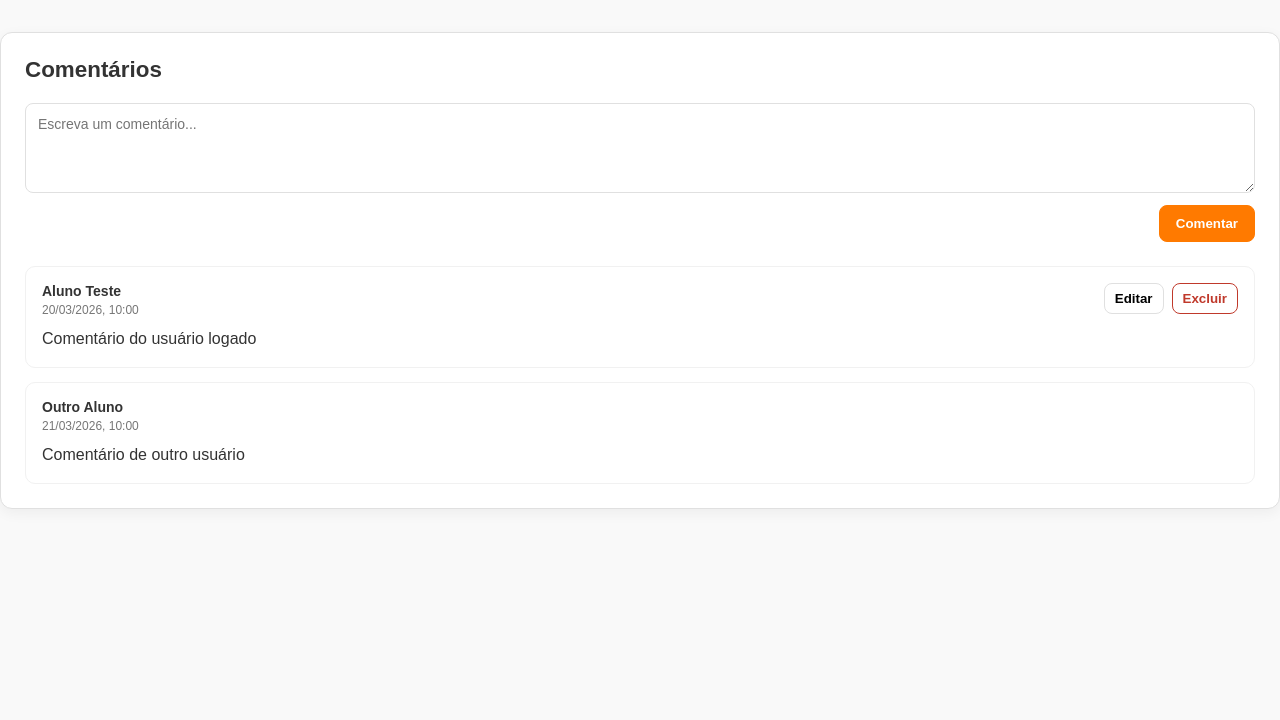
Scenario: CommentsSection › edita um comentário próprio
The width and height of the screenshot is (1280, 720).
Expected: the text "Comentário do usuário logado" is shown, [42,330,256,347]
Step 1. Click the button "Editar" → (1134,298), box [1104,283,1164,314]
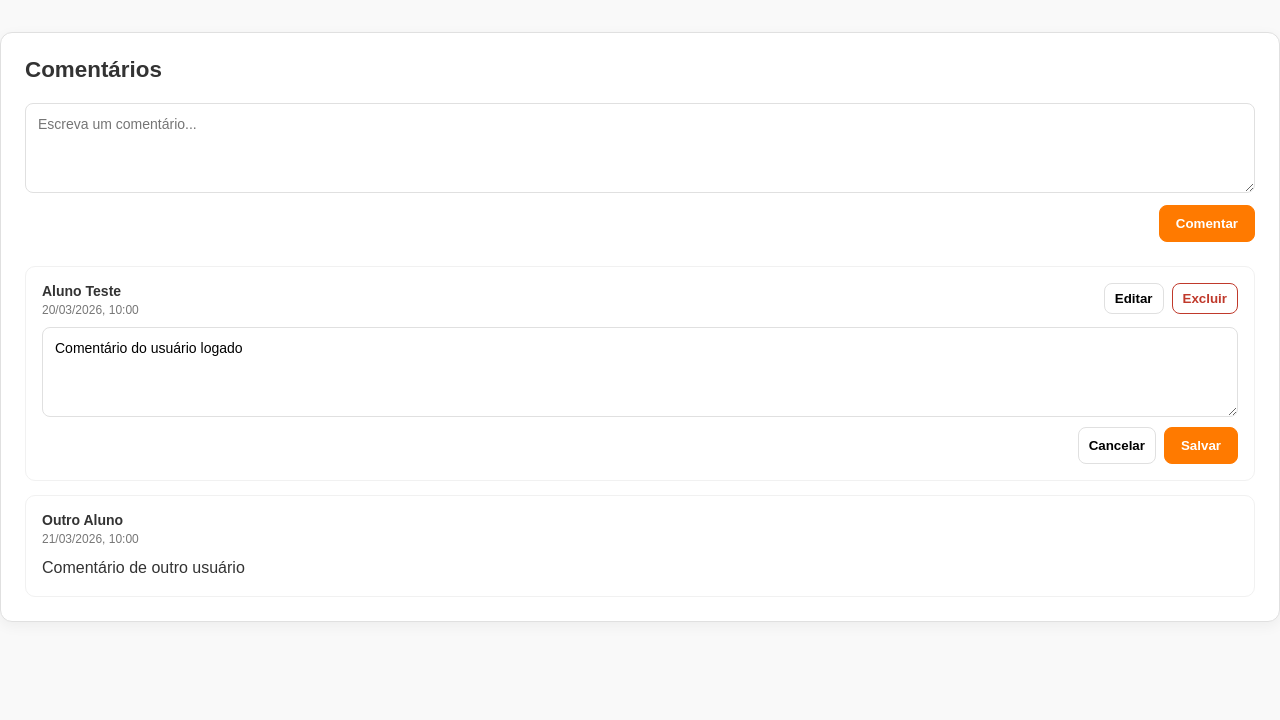
Step 2. Replace the text in the 2nd text box with "Comentário atualizado" → (640,372), box [42,327,1238,417]
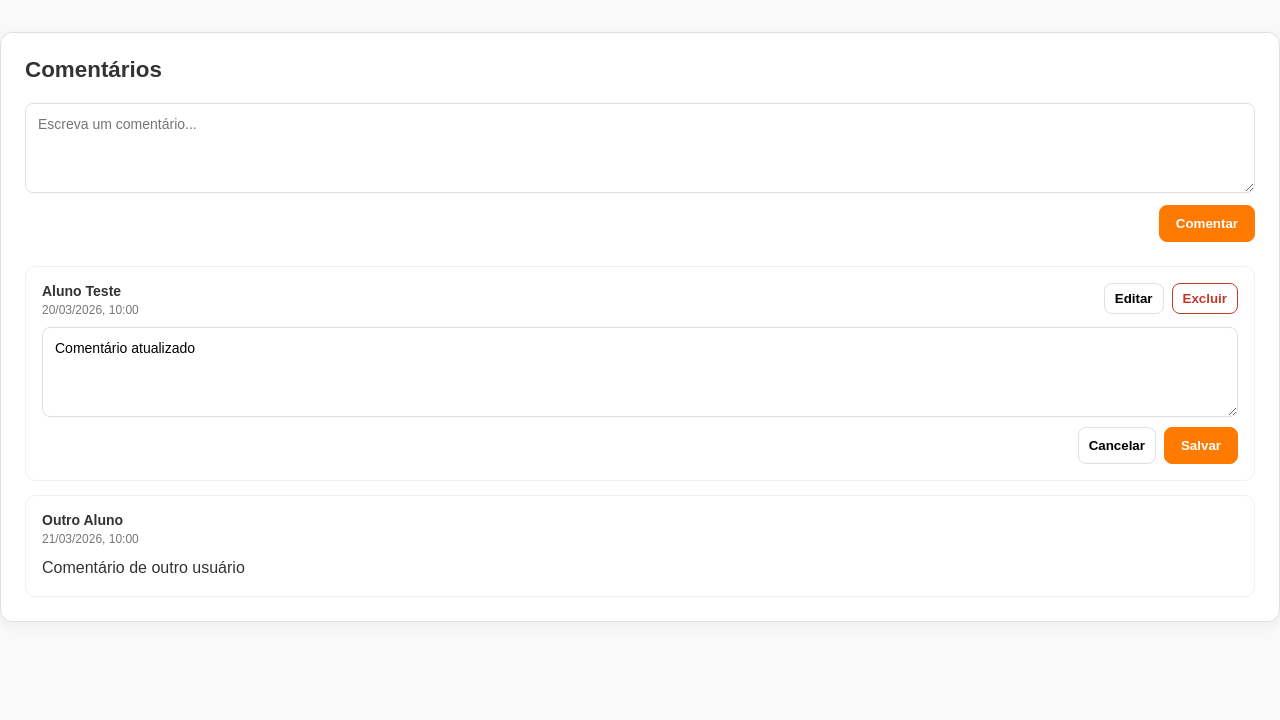
Step 3. Click the button "Salvar" → (1201,446), box [1164,427,1238,464]
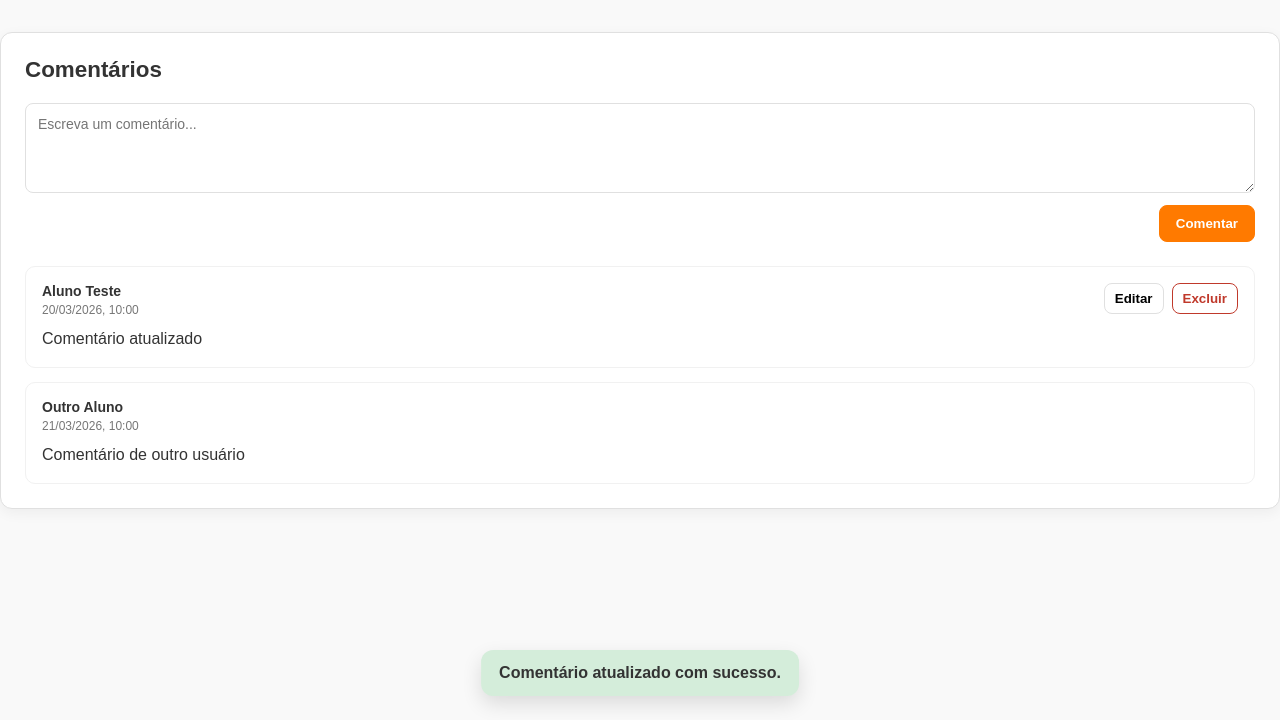
Expected: the text "Comentário atualizado" is shown, [42,330,202,347]
